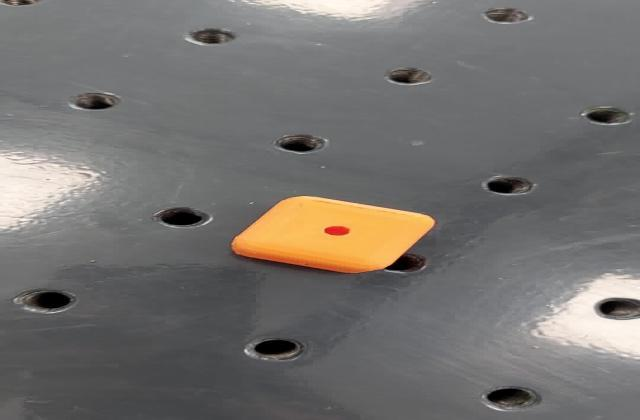cube: (224, 194, 438, 276)
